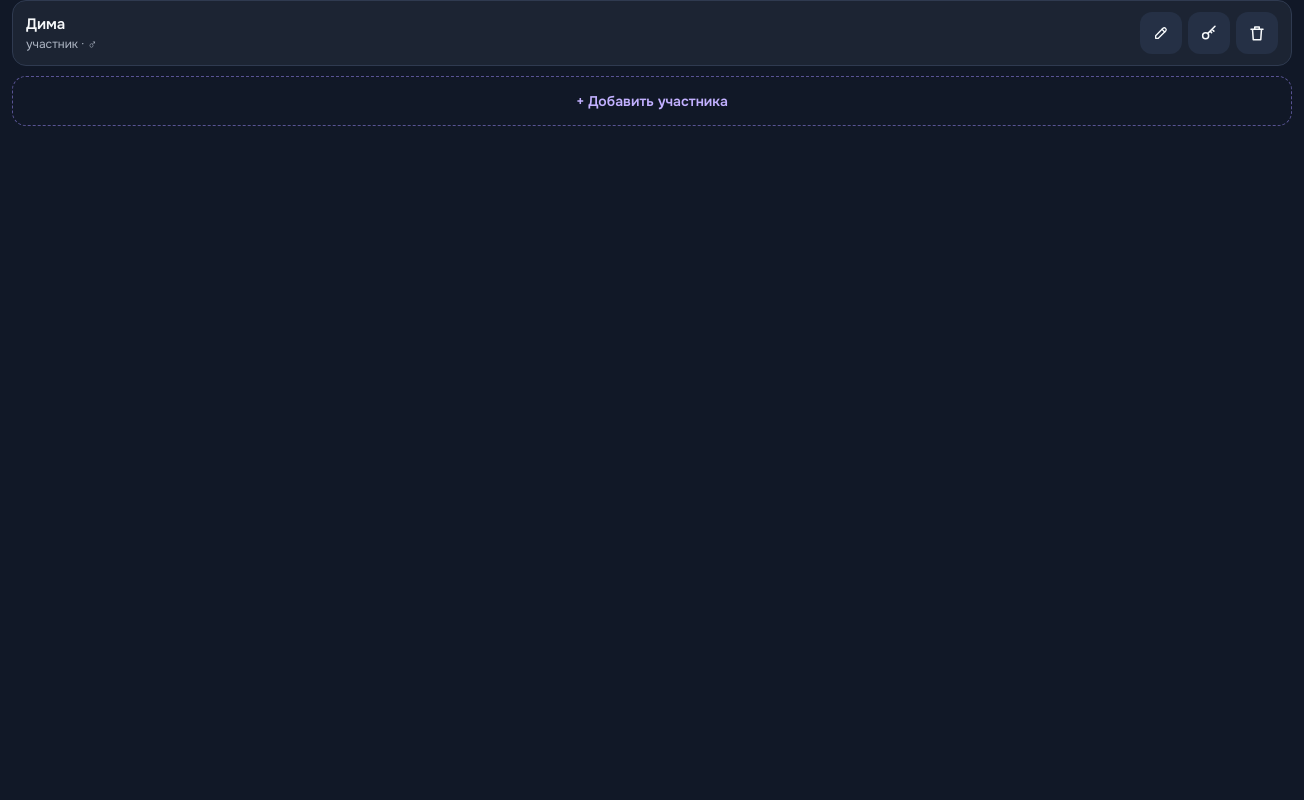
Test: UsersSection — новый участник › «Добавить» неактивна, пока нет логина, имени и PIN из 4 цифр
Expected: the text "Дима" is shown, [26,14,65,34]
Click the button "+ Добавить участника": (652, 101) [12,76,1292,126]
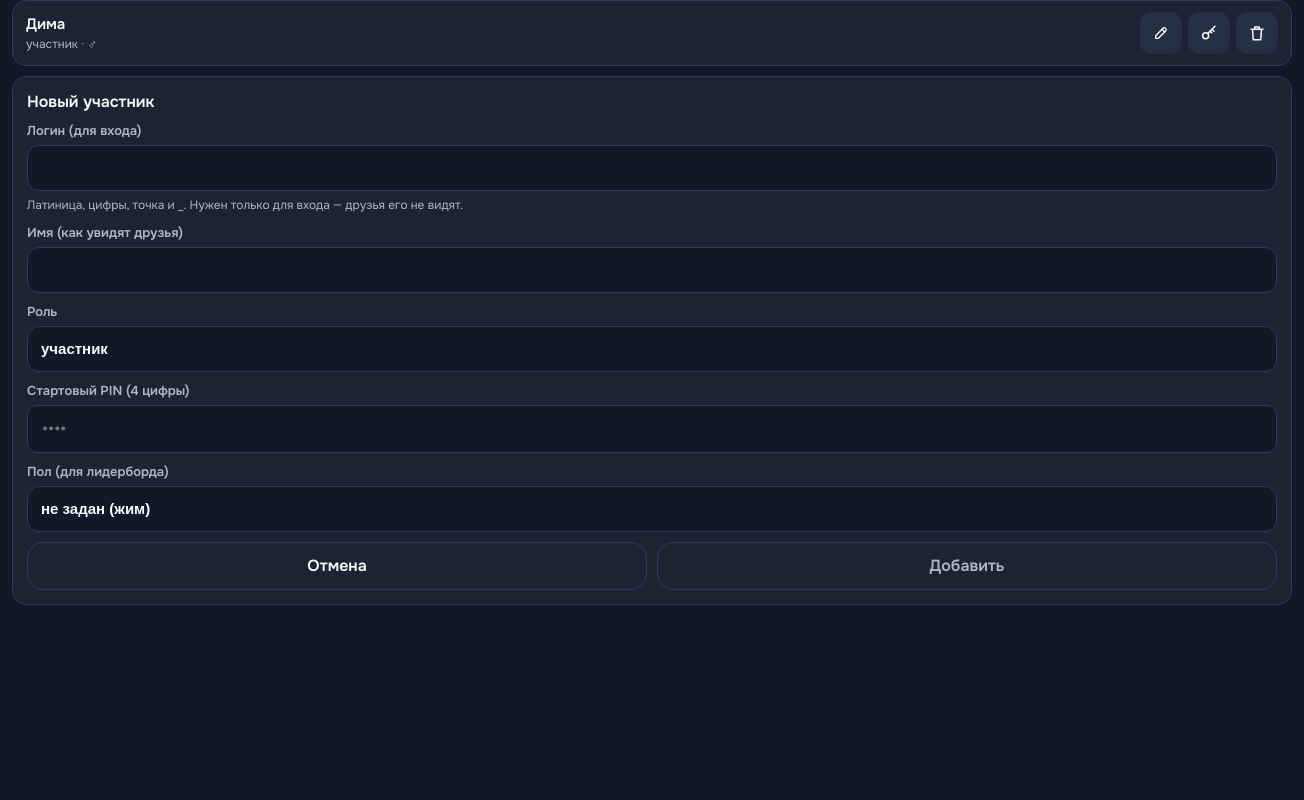
Expected: the button "Добавить" is disabled, [657,542,1277,590]
In the field labelled "Логин (для входа)": (652, 168) [27,145,1277,191], type "masha"
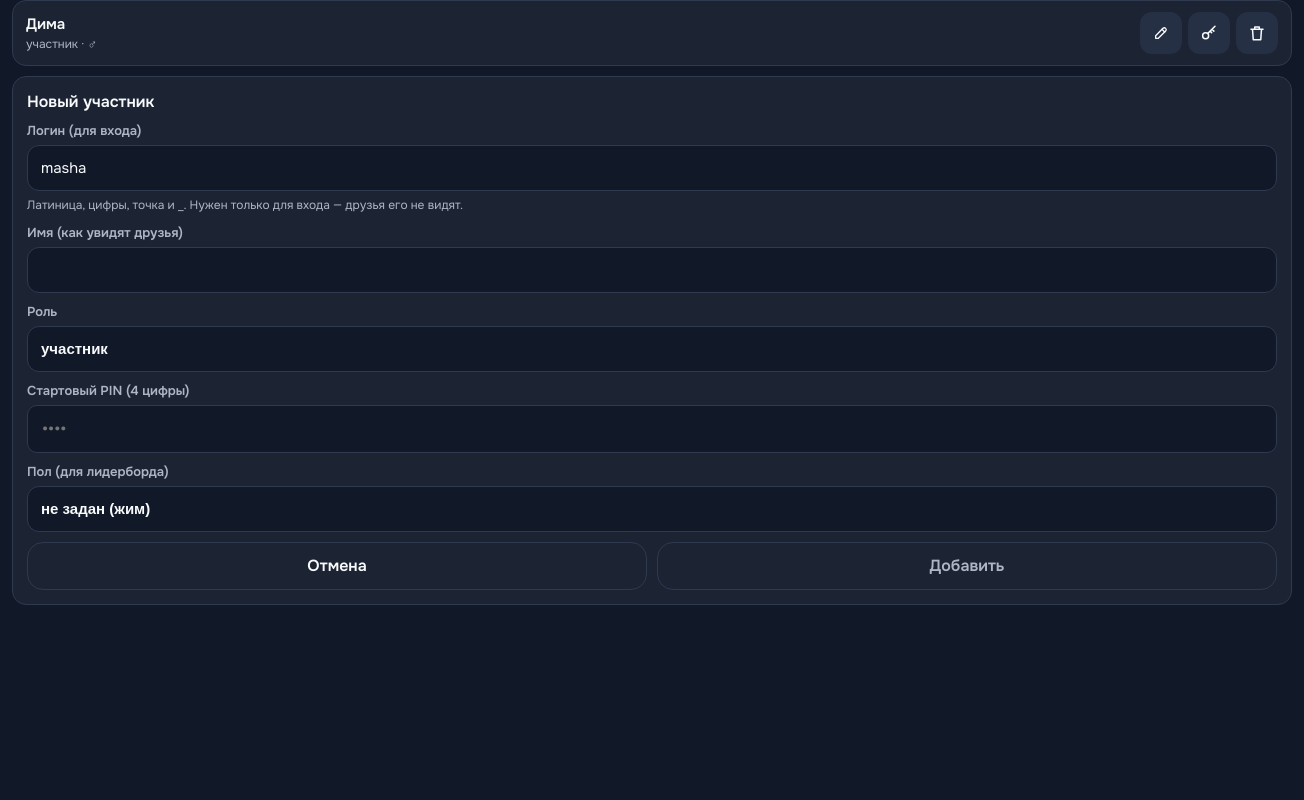
In the field labelled "Имя (как увидят друзья)": (652, 270) [27,247,1277,293], type "Маша"
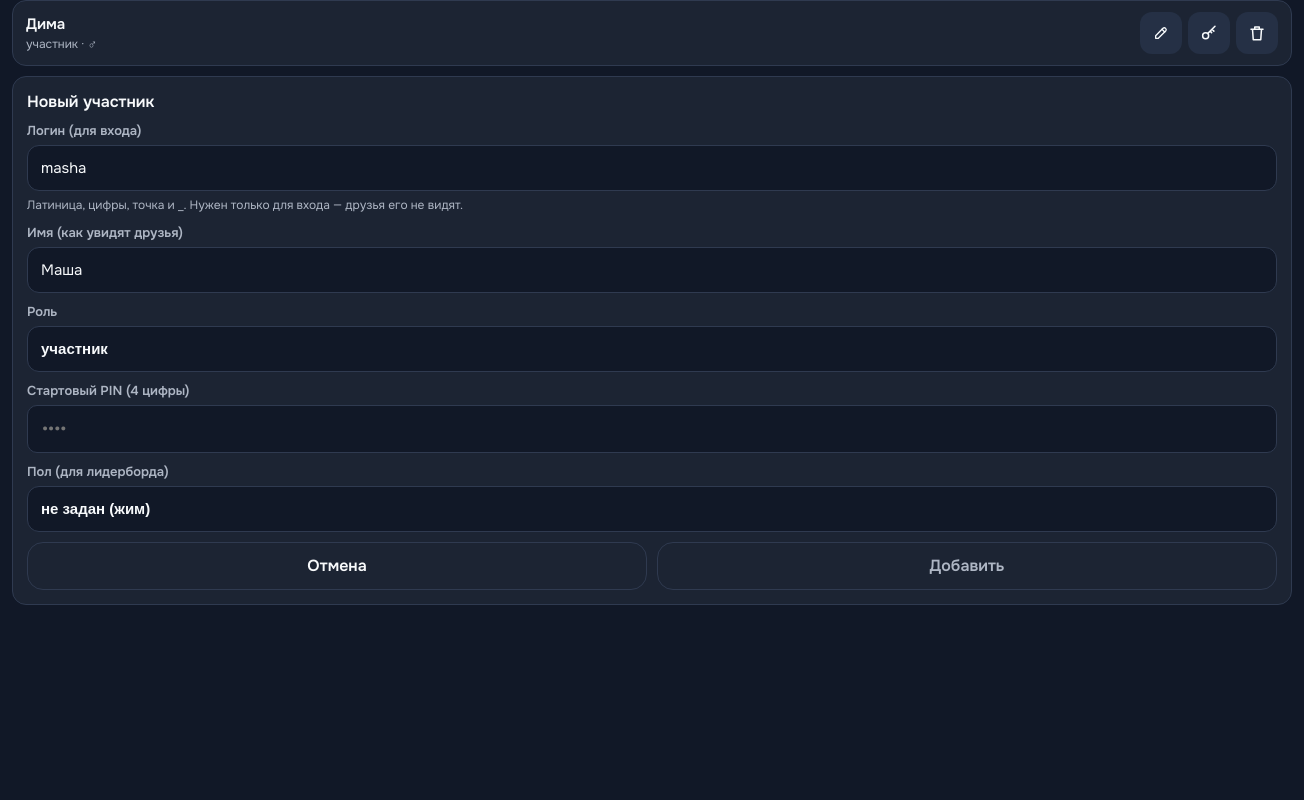
In the field labelled "Стартовый PIN (4 цифры)": (652, 429) [27,405,1277,453], type "12a3"
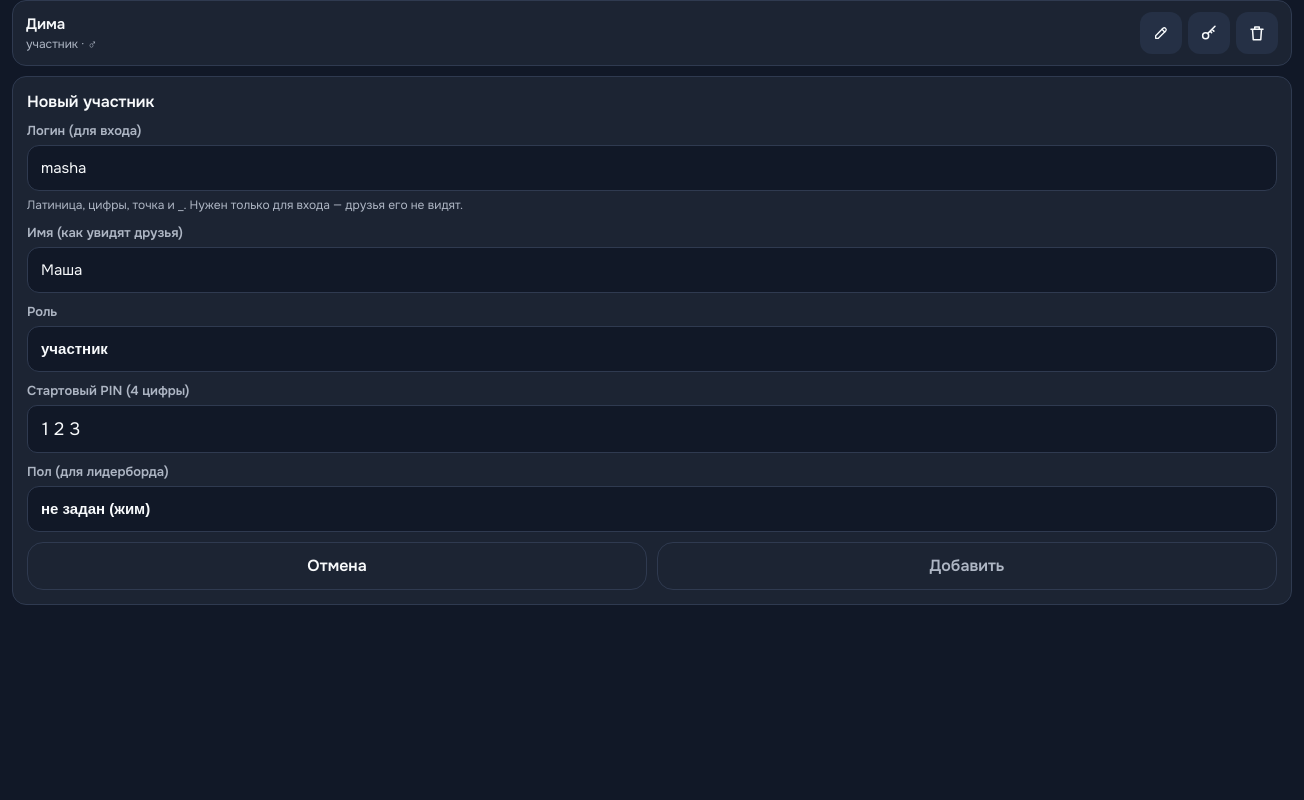
Expected: the button "Добавить" is disabled, [657,542,1277,590]
Expected: the field labelled "Стартовый PIN (4 цифры)" holds "123"
Replace the text in the field labelled "Стартовый PIN (4 цифры)" with "1234": (652, 429) [27,405,1277,453]
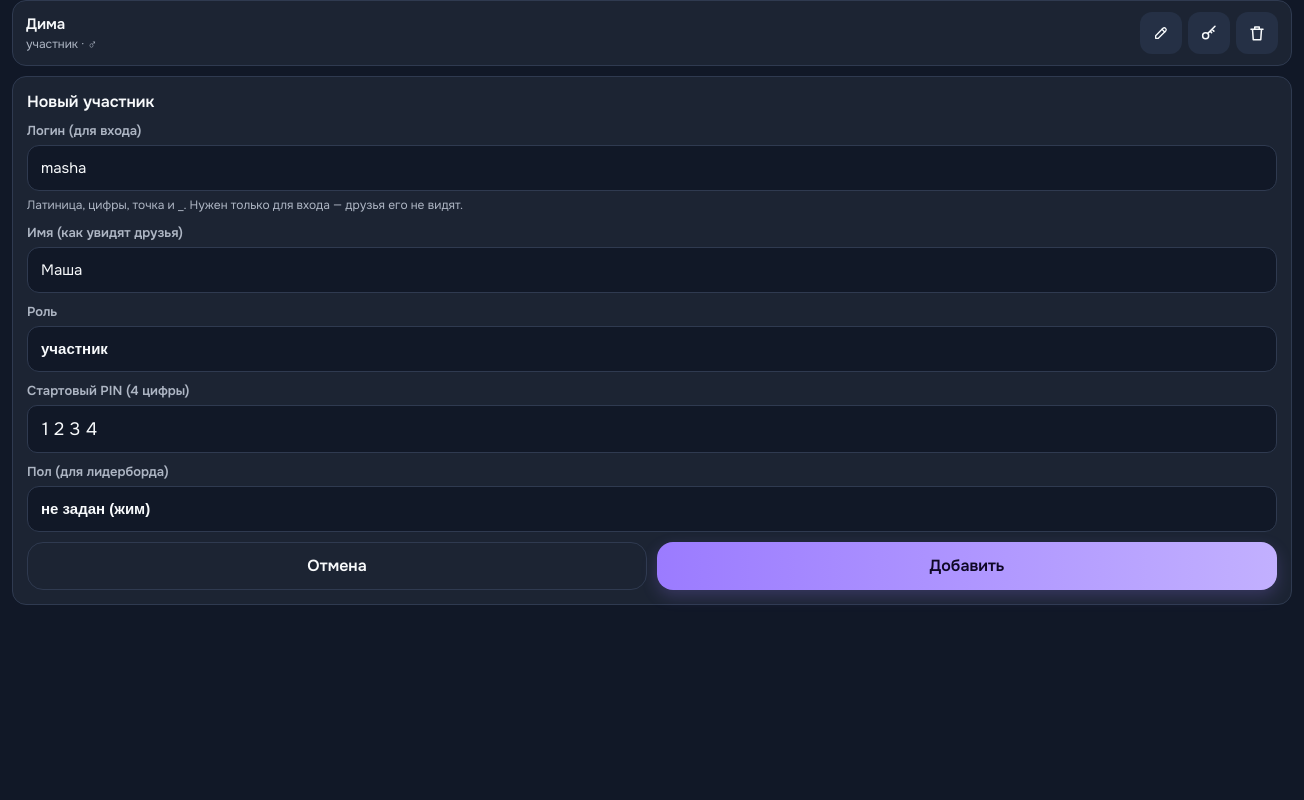
Expected: the button "Добавить" is enabled, [657,542,1277,590]
Replace the text in the field labelled "Логин (для входа)" with "Маша": (652, 168) [27,145,1277,191]
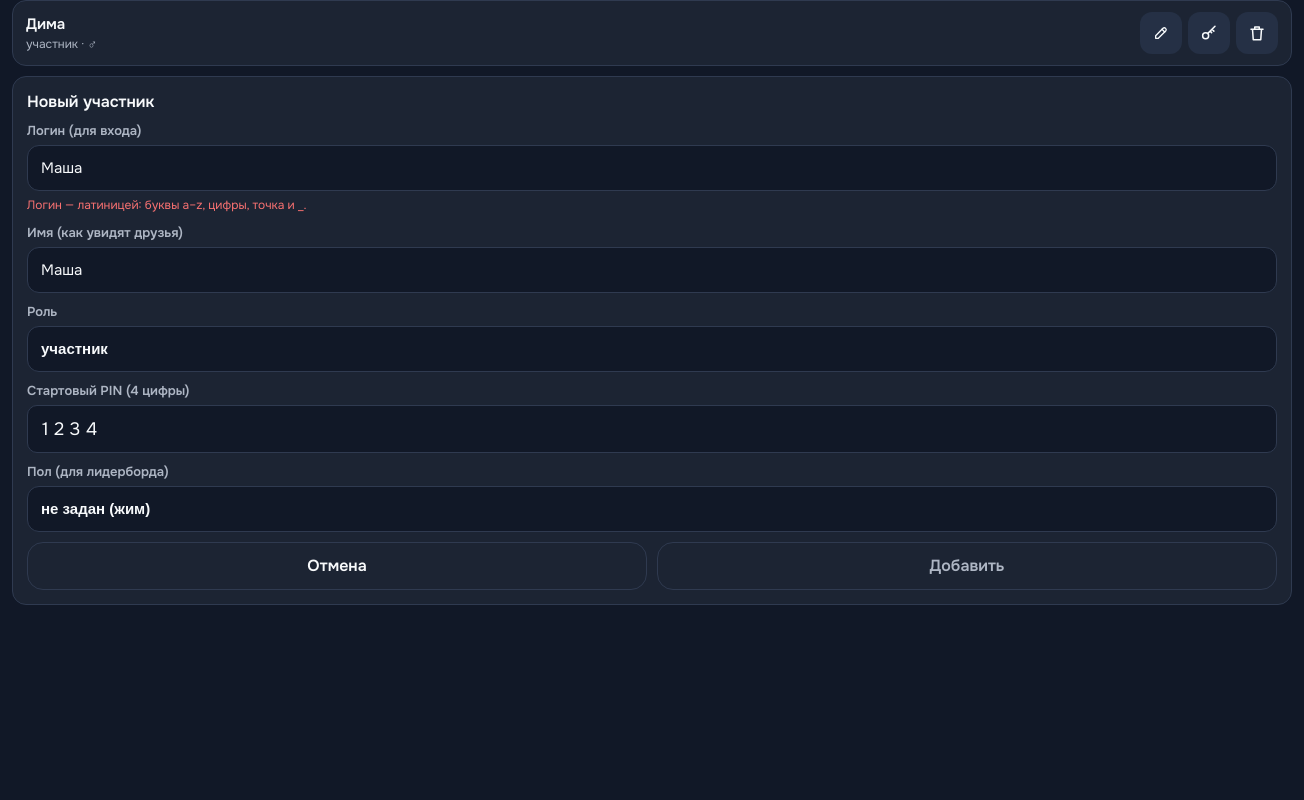
Expected: the button "Добавить" is disabled, [657,542,1277,590]
